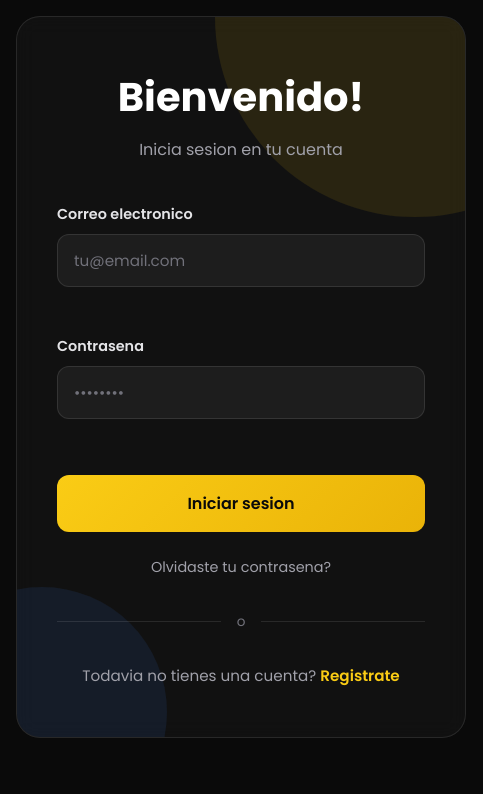
it: Login › Validaciones de formulario › debe mostrar error cuando el email está vacío
Click the button "Iniciar sesion".
click(241, 503)  # box 57,475 -> 425,532
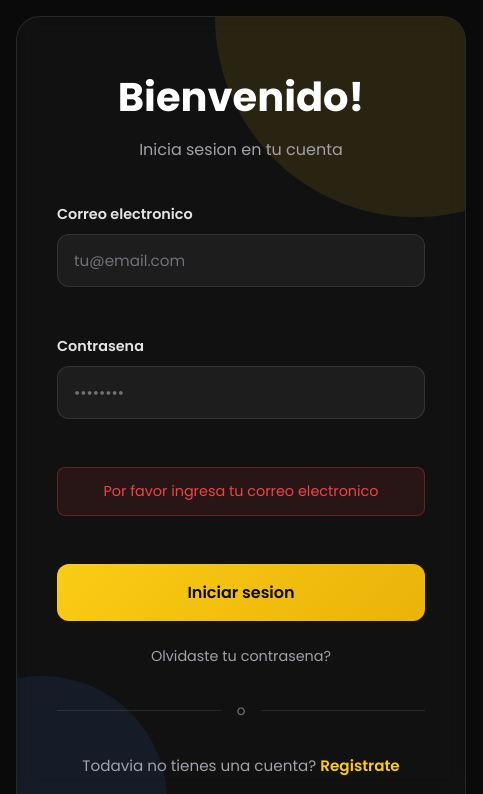
Expected: the text "Por favor ingresa tu correo electronico" is shown, 57,467 -> 425,516
